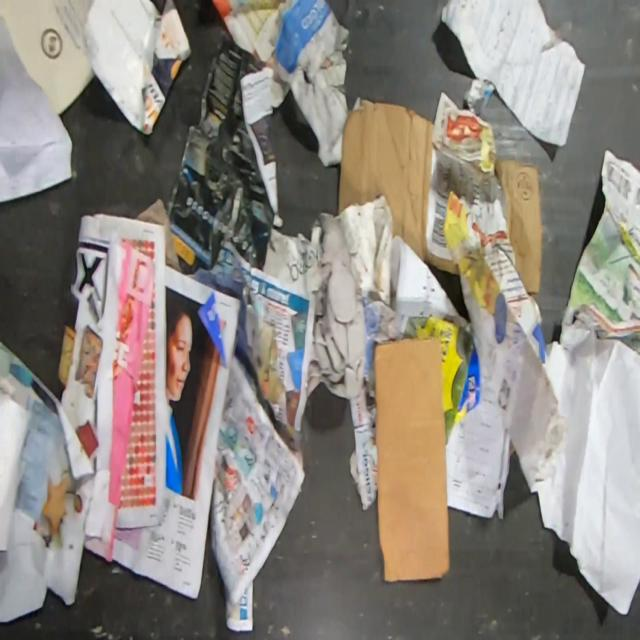cardboard: (336, 95, 544, 293), (371, 335, 451, 582)
